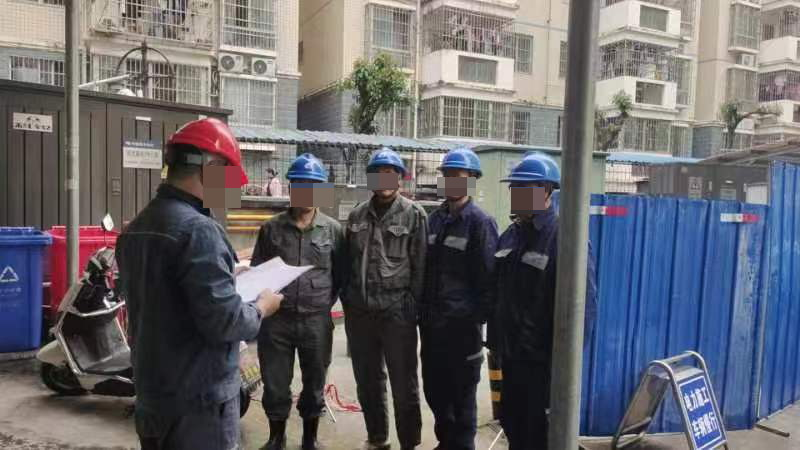downsuit: (343, 307, 419, 446), (420, 317, 484, 449), (260, 310, 332, 418), (498, 355, 553, 445)
halt: (163, 119, 246, 196), (505, 153, 562, 220), (284, 153, 331, 213), (437, 147, 485, 204), (366, 149, 410, 200)
hand: (252, 287, 285, 320)
inear: (199, 160, 224, 194), (534, 184, 553, 210), (466, 172, 479, 195)
person: (112, 115, 253, 450), (251, 151, 345, 450), (421, 146, 499, 450), (484, 152, 563, 449), (343, 148, 420, 449)
shoe: (262, 411, 290, 450), (300, 411, 325, 450)
upsuit: (115, 196, 260, 400), (489, 218, 558, 353), (254, 211, 342, 314), (421, 204, 494, 321), (346, 196, 422, 306)
